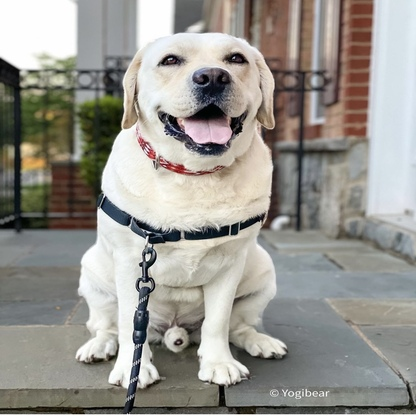labrado: (70, 25, 294, 391)
